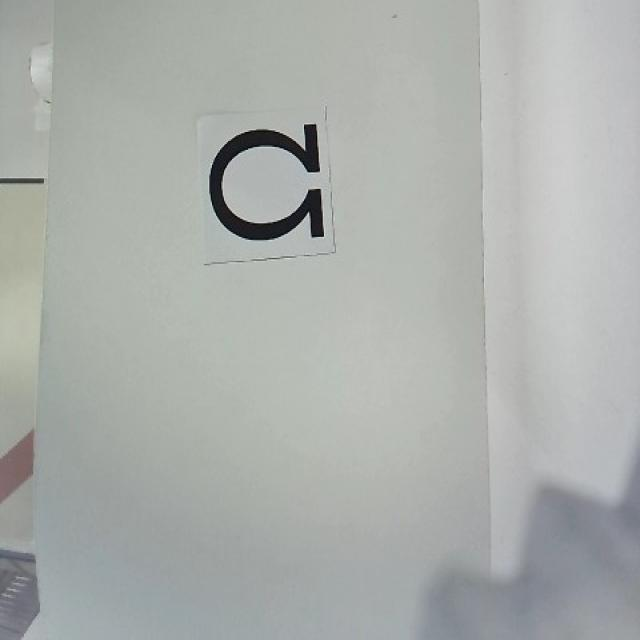OM: (209, 121, 325, 240)
